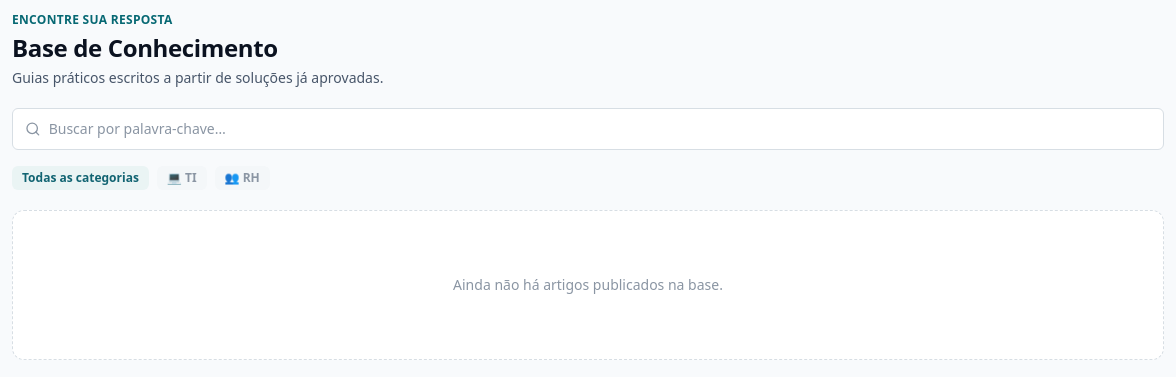
Test: BaseConhecimentoPage (F5.2) › busca por palavra-chave repassando q para a API
In the field named "Buscar na base de conhecimento": (600, 129) [49, 109, 1151, 149], type "vpn"
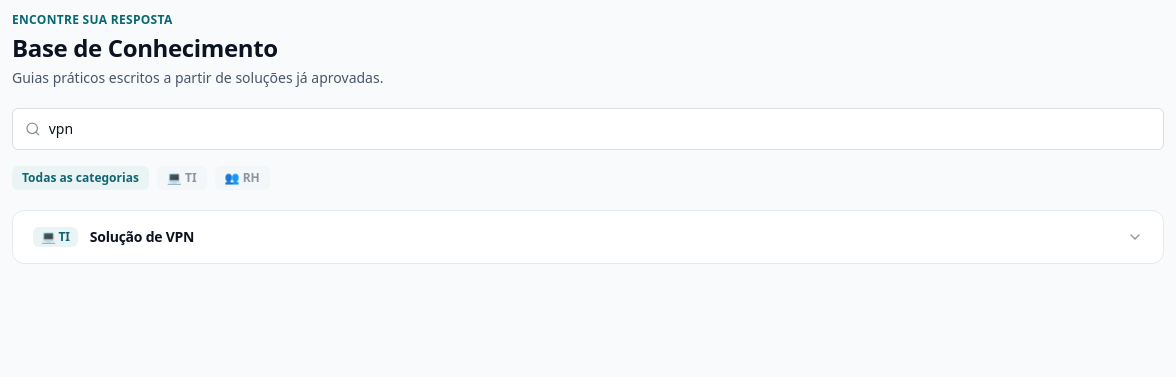
Expected: the text "Solução de VPN" is shown, [90, 227, 194, 246]
